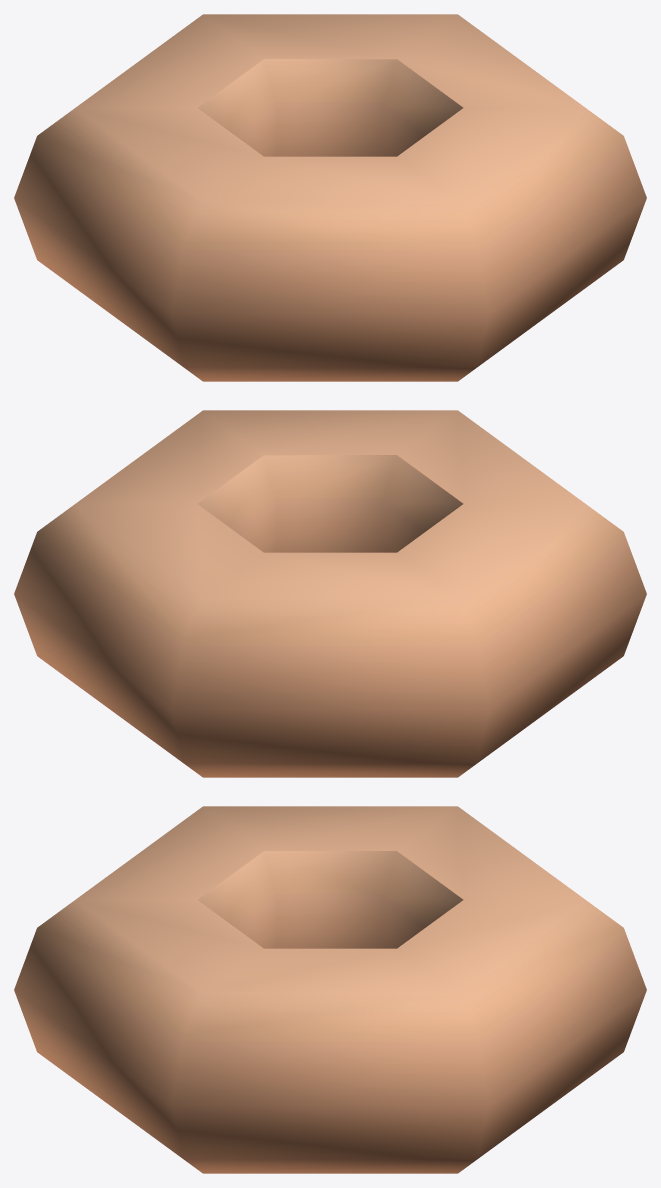
File: donut.opt.glb
The picture shows the model from 3 angles, top to bottom: view 1: azimuth 30°, elevation 25°; view 2: azimuth 150°, elevation 25°; view 3: azimuth 270°, elevation 25°; orthographic projection.
Parts seen in each view (by area): view 1: donut; view 2: donut; view 3: donut.
Part boxes in pixels (left/top/right/bottom): donut: left=14, top=14, right=646, bottom=381; donut: left=14, top=410, right=646, bottom=777; donut: left=14, top=806, right=646, bottom=1173.
Bounding box in the file's own units: 0.2451 × 0.0889 × 0.283.
Materials: 1 (1 with a texture image).
